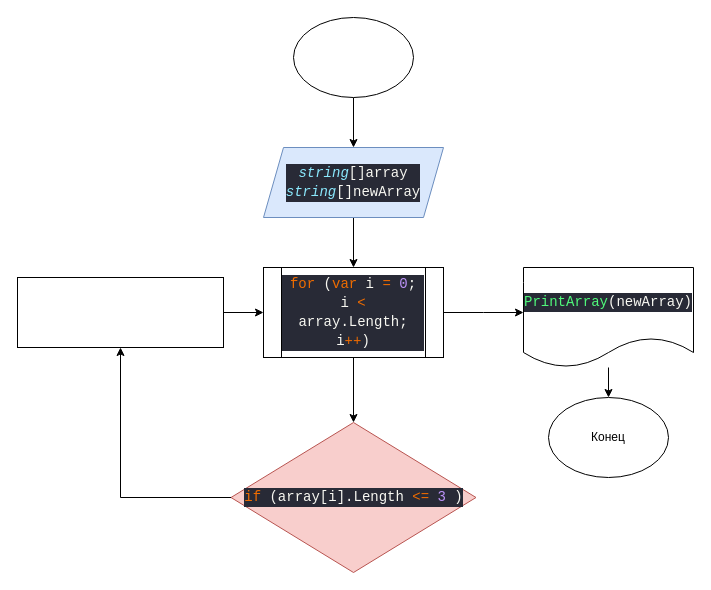
This 711x590 diagram has some shape labels left out. Here are the shapes that lost their labels. From the top down, the box of each, then its label:
(292, 16, 414, 98): Test_Job
(16, 276, 224, 348): newArray[i] = array[i];
